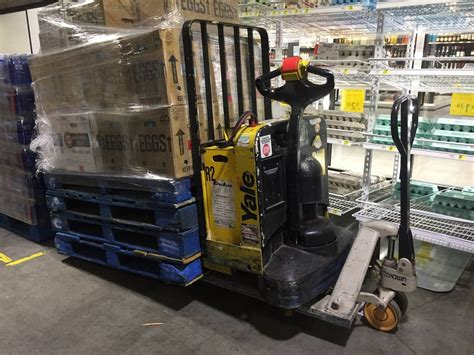Pallet Jack: (175, 89, 426, 334)
